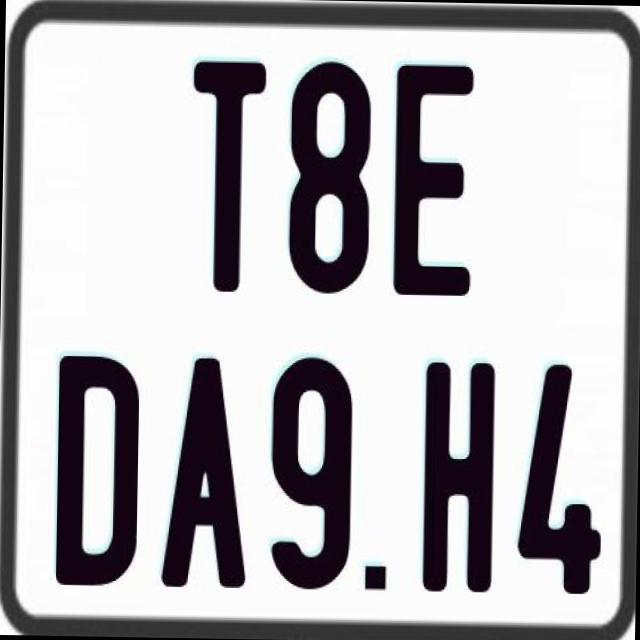4: (513, 362, 601, 595)
8: (284, 60, 368, 294)
9: (266, 355, 358, 597)
A: (160, 358, 248, 596)
D: (53, 352, 144, 586)
E: (388, 64, 472, 296)
H: (420, 361, 500, 598)
T: (186, 57, 270, 292)
